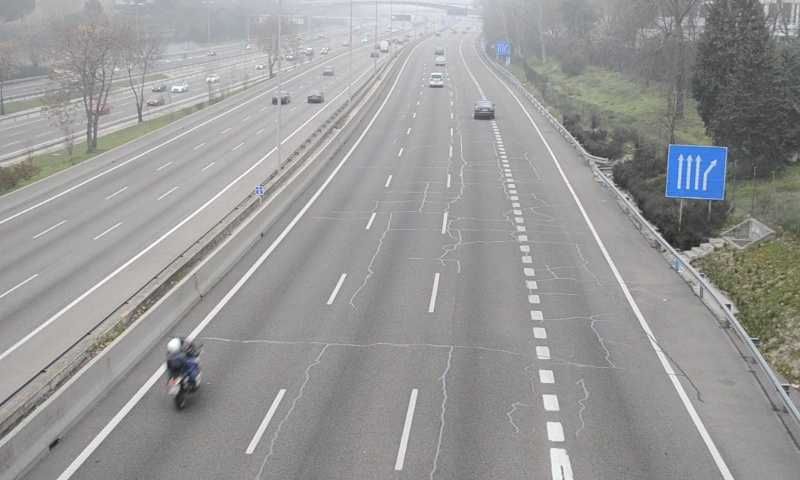car: (473, 99, 494, 120), (428, 73, 445, 88)
motorcycle: (163, 338, 203, 407)
